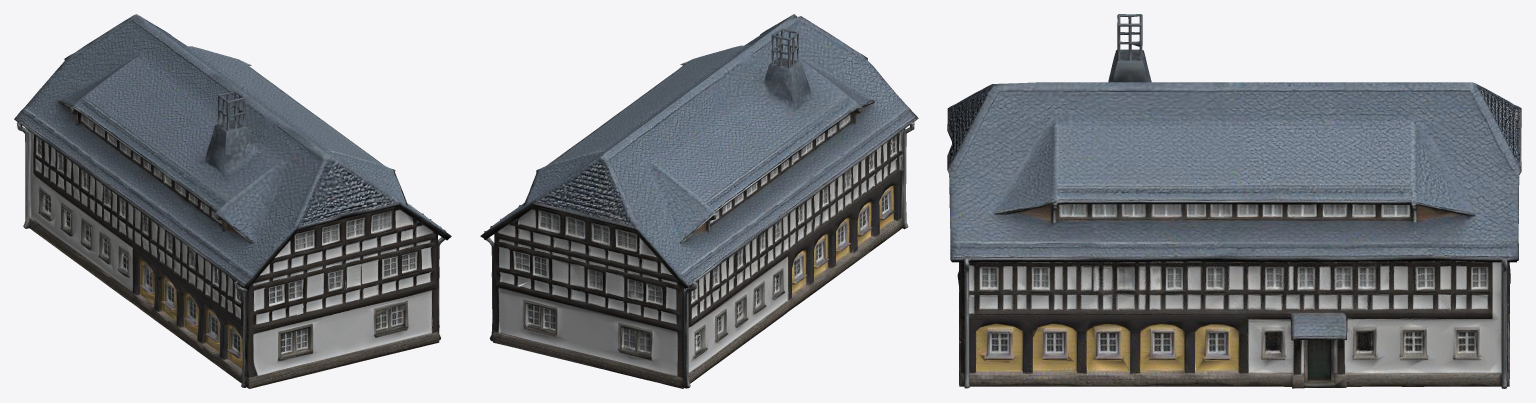
File: sonnebergbaude.glb
3 renders of one model, left to right at view 1: azimuth 30°, elevation 25°; view 2: azimuth 150°, elevation 25°; view 3: azimuth 270°, elevation 25°, orthographic. The views are drawn at different scales.
Visible parts, largest first — view 1: tripo_node_a2a97e3e-7c03-4982-a500-9cb1d336235b; view 2: tripo_node_a2a97e3e-7c03-4982-a500-9cb1d336235b; view 3: tripo_node_a2a97e3e-7c03-4982-a500-9cb1d336235b.
Boxes of the visible parts, left/top/right/bottom form: tripo_node_a2a97e3e-7c03-4982-a500-9cb1d336235b: left=14, top=14, right=451, bottom=388; tripo_node_a2a97e3e-7c03-4982-a500-9cb1d336235b: left=480, top=14, right=918, bottom=388; tripo_node_a2a97e3e-7c03-4982-a500-9cb1d336235b: left=947, top=14, right=1521, bottom=388.
Size of the model in its own units: 0.5433 by 0.5473 by 1.
1 material, 1 textured.
